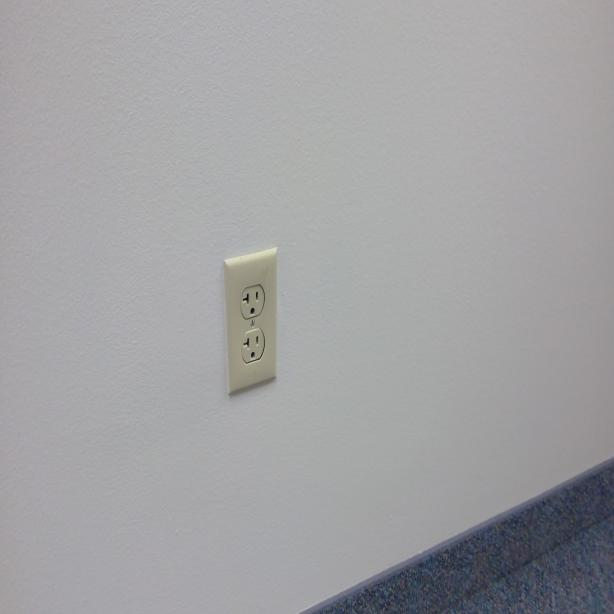typeb: (238, 284, 264, 322), (241, 331, 267, 360)
